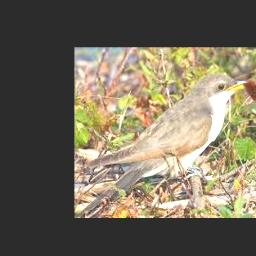Cuckoo: (77, 74, 248, 218)
